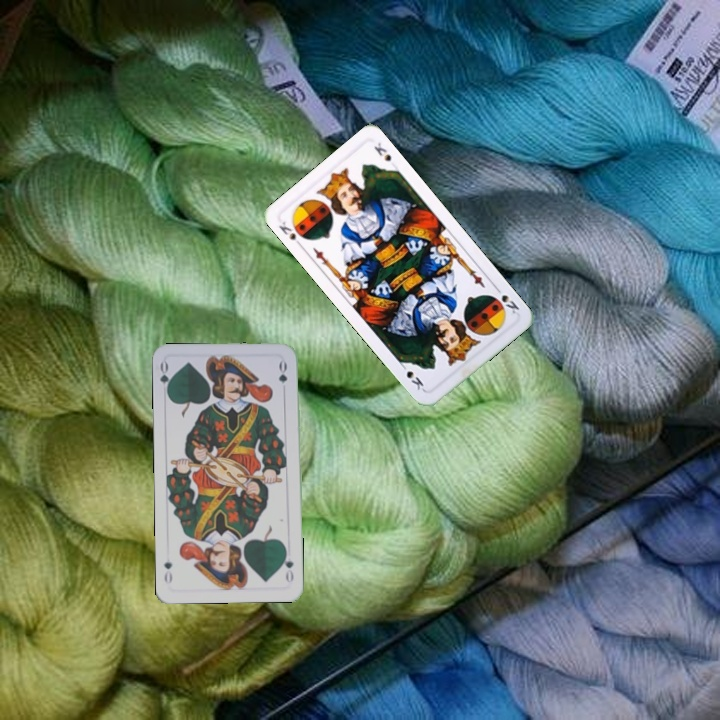GO: (156, 358, 175, 399), (279, 545, 296, 586)
SK: (491, 282, 522, 316), (275, 218, 305, 249)
